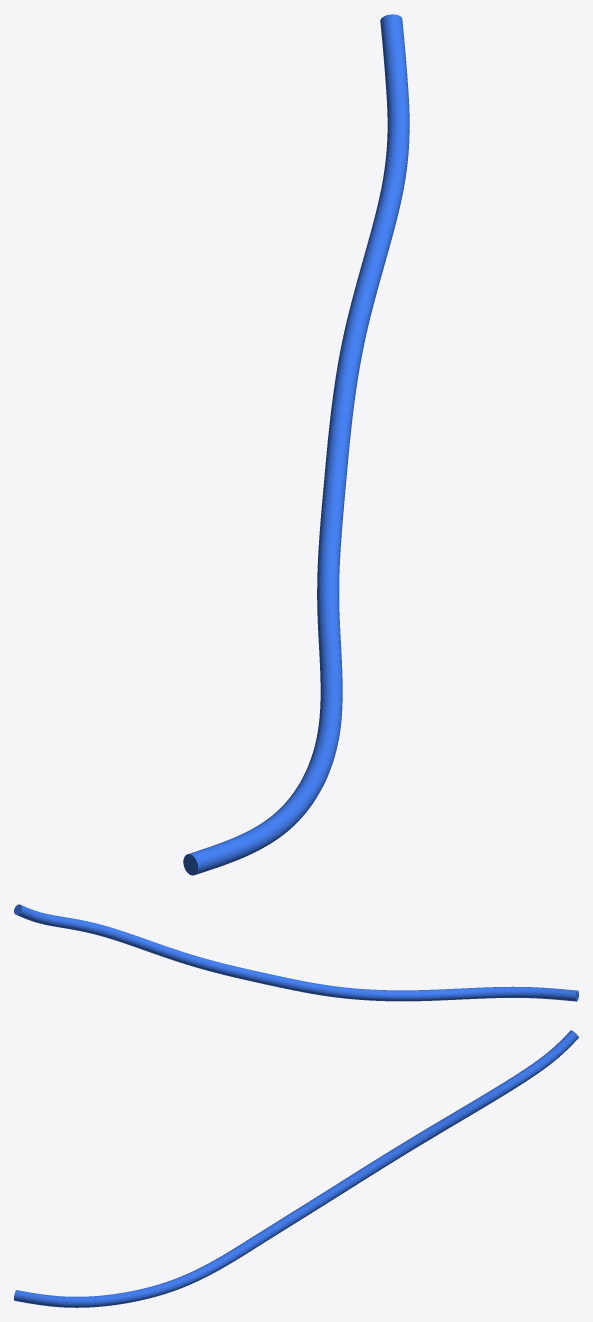
File: faces31 - linechin.glb
3 views of the same model, one above another, from view 1: azimuth 30°, elevation 25°; view 2: azimuth 150°, elevation 25°; view 3: azimuth 330°, elevation 25° (orthographic). The views are drawn at different scales.
Parts seen in each view (by area): view 1: Tube; view 2: Tube; view 3: Tube.
Boxes of the visible parts, x1,y1,x2,y2 form: Tube: [183, 14, 409, 875]; Tube: [14, 904, 578, 1001]; Tube: [14, 1030, 578, 1307].
Bounding box in the file's own units: 0.3566 × 0.1877 × 0.431.
